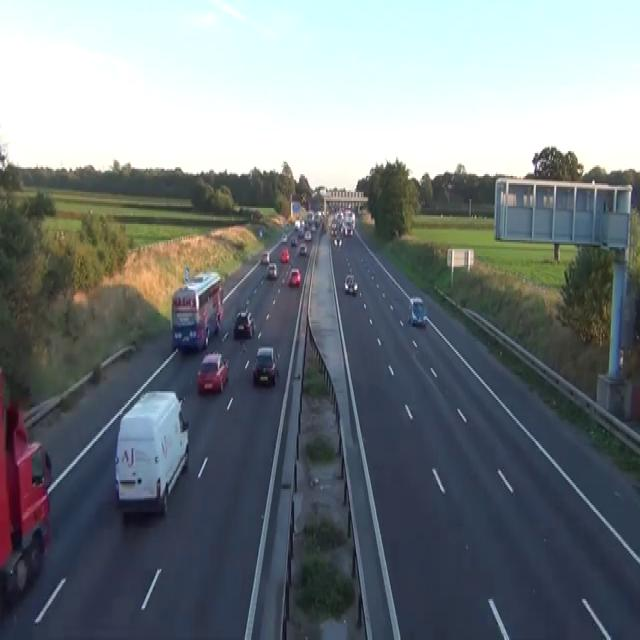Car: (197, 350, 229, 393), (252, 345, 277, 386), (330, 206, 355, 247), (232, 309, 254, 338), (407, 297, 427, 327), (344, 274, 357, 293), (288, 267, 301, 286), (266, 261, 277, 279), (54, 229, 66, 242), (280, 247, 289, 263), (342, 222, 353, 235), (260, 251, 270, 265), (333, 235, 342, 247), (299, 242, 307, 254), (304, 229, 312, 240), (290, 235, 297, 245), (297, 226, 304, 236), (309, 221, 316, 231), (294, 219, 300, 229), (281, 233, 287, 242), (259, 228, 262, 236)
Truck: (0, 364, 52, 604), (114, 390, 189, 516), (170, 267, 223, 352)
